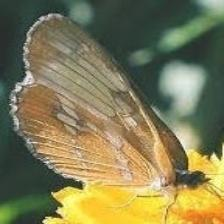butterfly: (10, 16, 206, 204)
